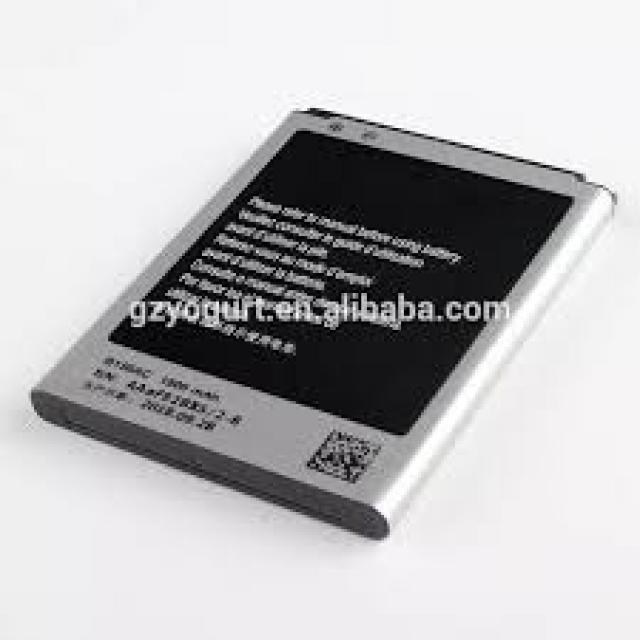non-organic waste: (30, 105, 620, 545)
